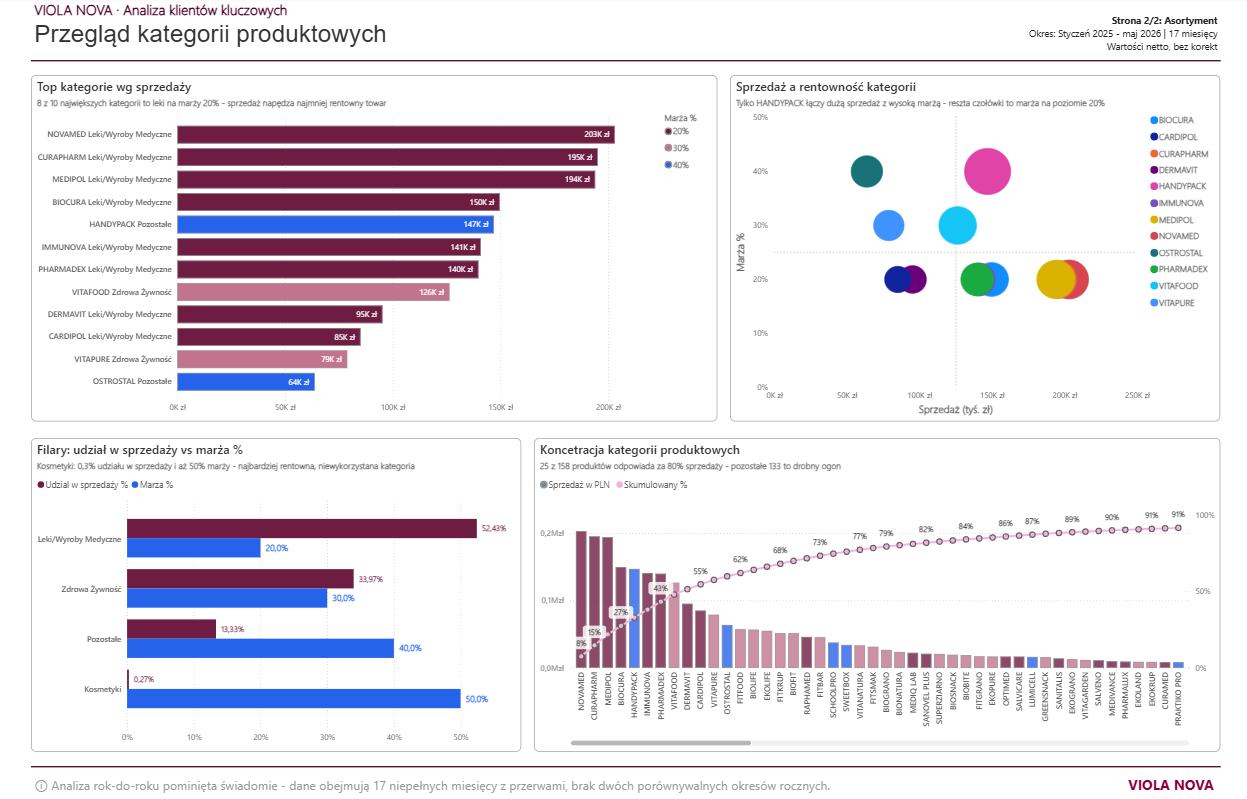

The page's visual inventory and layout, read from the dashboard file:
{"tool":"powerbi","page":{"name":"Asortyment","canvas":[1920,1230],"ordinal":1},"visuals":[{"type":"shape","box":[50,75,1820,45],"z":0},{"type":"textbox","box":[50,30,1200,60],"z":1000},{"type":"textbox","box":[50,0,555,38.3],"z":2000},{"type":"textbox","box":[1520,20,350,70],"z":3000},{"type":"barChart","title":"Top kategorie wg sprzedaży","fields":{"Category":["DimProdukty.nazwa kategorii","DimProdukty.filar wzrostu"],"Y":["_Measures.Sprzedaz PLN (bez korekt)"],"Series":["FactSprzedaz.marza %"]},"box":[50,120,1050,530],"z":4000},{"type":"scatterChart","title":"Sprzedaż a rentowność kategorii","fields":{"X":["_Measures.Sprzedaz PLN (bez korekt)"],"Y":["FactSprzedaz.marza %"],"Size":["_Measures.Marza PLN (bez korekt)"],"Series":["DimProdukty.nazwa kategorii"]},"box":[1120,120,750,530],"z":5000},{"type":"lineClusteredColumnComboChart","title":"Koncetracja kategorii produktowych","fields":{"Y":["_Measures.Sprzedaz PLN (bez korekt)"],"Y2":["select"],"Category":["DimProdukty.nazwa kategorii"]},"box":[820,675,1050,480],"z":6000},{"type":"clusteredBarChart","title":"Filary: udział w sprzedaży vs marża %","fields":{"Category":["DimProdukty.filar wzrostu"],"Y":["_Measures.Udzial w sprzedazy %","_Measures.Marza %"]},"box":[50,675,750,480],"z":7000},{"type":"textbox","box":[50,1185,1250,45],"z":8000},{"type":"shape","box":[50,1155,1820,45],"z":9000},{"type":"textbox","box":[1650,1185,220,45],"z":10000}]}

Visuals, with their boxes in screenshot pixels (x1, y1, x2, y2), scaled from the page's 1920x1230 canvas onto the 1247x799 screenshot:
shape: bbox=[32, 49, 1215, 78]
textbox: bbox=[32, 19, 812, 58]
textbox: bbox=[32, 0, 393, 25]
textbox: bbox=[987, 13, 1215, 58]
"Top kategorie wg sprzedaży" barChart: bbox=[32, 78, 714, 422]
"Sprzedaż a rentowność kategorii" scatterChart: bbox=[727, 78, 1215, 422]
"Koncetracja kategorii produktowych" lineClusteredColumnComboChart: bbox=[533, 438, 1215, 750]
"Filary: udział w sprzedaży vs marża %" clusteredBarChart: bbox=[32, 438, 520, 750]
textbox: bbox=[32, 770, 844, 798]
shape: bbox=[32, 750, 1215, 780]
textbox: bbox=[1072, 770, 1215, 798]
